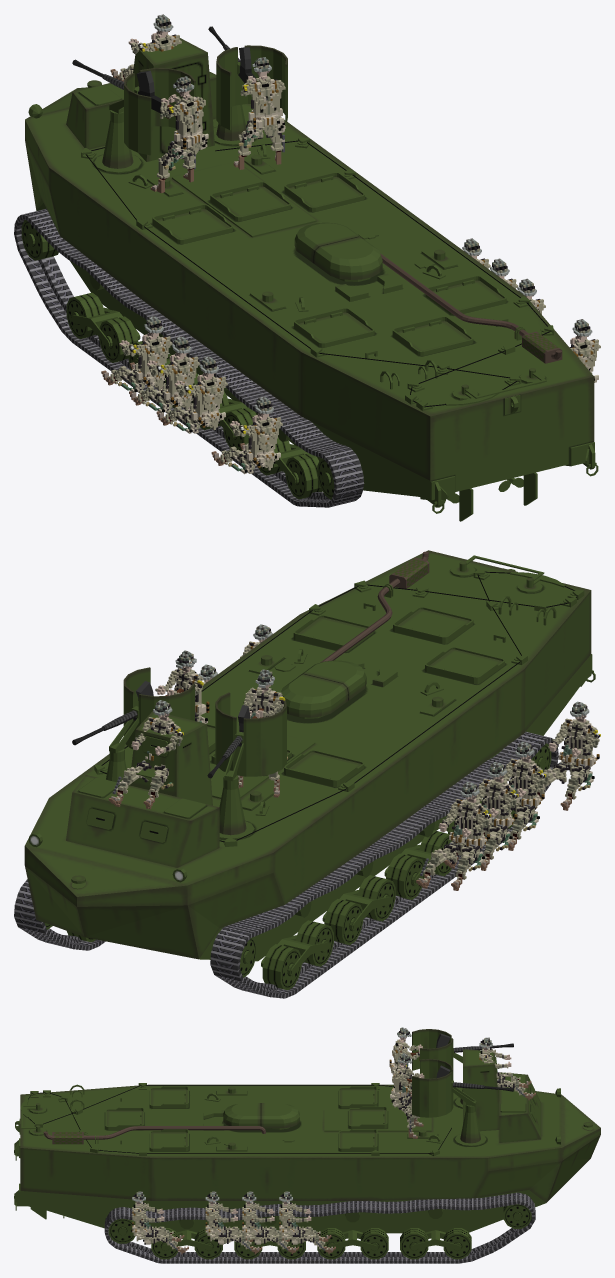
The model's file is katsu.glb.
The picture shows the model from 3 angles, top to bottom: view 1: azimuth 30°, elevation 25°; view 2: azimuth 150°, elevation 25°; view 3: azimuth 270°, elevation 25°; orthographic projection. The views are drawn at different scales.
Visible parts, largest first — view 1: 00_chassis_katsu_chassis.mesh, 07_track_katsu_track.mesh, 04_turret_katsu_mg.mesh, 05_turret_katsu_mg.mesh, crew_soldier_SLOT_01_GUNNER, crew_soldier_SLOT_02_GUNNER, crew_soldier_SLOT_09_PASSENGER, crew_soldier_SLOT_07_PASSENGER, crew_soldier_SLOT_03_PASSENGER, crew_soldier_SLOT_05_PASSENGER, crew_soldier_SLOT_00_DRIVER, crew_soldier_SLOT_10_PASSENGER; view 2: 00_chassis_katsu_chassis.mesh, 07_track_katsu_track.mesh, 04_turret_katsu_mg.mesh, crew_soldier_SLOT_03_PASSENGER, crew_soldier_SLOT_09_PASSENGER, 05_turret_katsu_mg.mesh, crew_soldier_SLOT_05_PASSENGER, crew_soldier_SLOT_00_DRIVER, crew_soldier_SLOT_07_PASSENGER, 06_track_katsu_track.mesh, crew_soldier_SLOT_01_GUNNER, crew_soldier_SLOT_02_GUNNER; view 3: 00_chassis_katsu_chassis.mesh, 06_track_katsu_track.mesh, 05_turret_katsu_mg.mesh, 04_turret_katsu_mg.mesh, crew_soldier_SLOT_10_PASSENGER, crew_soldier_SLOT_04_PASSENGER, crew_soldier_SLOT_08_PASSENGER, crew_soldier_SLOT_06_PASSENGER, crew_soldier_SLOT_02_GUNNER, crew_soldier_SLOT_00_DRIVER, crew_soldier_SLOT_01_GUNNER.
Part boxes in pixels (x1,y1,x2,y2): 00_chassis_katsu_chassis.mesh: (25,38,598,521); 07_track_katsu_track.mesh: (14,208,364,507); 04_turret_katsu_mg.mesh: (72,59,195,155); 05_turret_katsu_mg.mesh: (208,26,287,129); crew_soldier_SLOT_01_GUNNER: (150,76,208,193); crew_soldier_SLOT_02_GUNNER: (233,57,285,169); crew_soldier_SLOT_09_PASSENGER: (211,396,282,474); crew_soldier_SLOT_07_PASSENGER: (156,356,227,433); crew_soldier_SLOT_03_PASSENGER: (101,316,172,393); crew_soldier_SLOT_05_PASSENGER: (129,336,200,413); crew_soldier_SLOT_00_DRIVER: (110,14,181,81); crew_soldier_SLOT_10_PASSENGER: (569,319,600,382); 00_chassis_katsu_chassis.mesh: (24,550,595,974); 07_track_katsu_track.mesh: (210,731,558,998); 04_turret_katsu_mg.mesh: (207,692,286,781); crew_soldier_SLOT_03_PASSENGER: (416,782,491,890); crew_soldier_SLOT_09_PASSENGER: (536,701,600,810); 05_turret_katsu_mg.mesh: (72,667,194,753); crew_soldier_SLOT_05_PASSENGER: (443,762,518,870); crew_soldier_SLOT_00_DRIVER: (108,700,183,809); crew_soldier_SLOT_07_PASSENGER: (481,741,546,850); 06_track_katsu_track.mesh: (14,879,105,950); crew_soldier_SLOT_01_GUNNER: (238,669,287,797); crew_soldier_SLOT_02_GUNNER: (155,650,209,723); 00_chassis_katsu_chassis.mesh: (14,1049,600,1249); 06_track_katsu_track.mesh: (104,1192,535,1263); 05_turret_katsu_mg.mesh: (406,1059,513,1117); 04_turret_katsu_mg.mesh: (409,1029,513,1070); crew_soldier_SLOT_10_PASSENGER: (132,1191,188,1254); crew_soldier_SLOT_04_PASSENGER: (279,1191,335,1254); crew_soldier_SLOT_08_PASSENGER: (205,1191,262,1254); crew_soldier_SLOT_06_PASSENGER: (242,1191,298,1254); crew_soldier_SLOT_02_GUNNER: (390,1053,424,1138); crew_soldier_SLOT_00_DRIVER: (479,1037,535,1100); crew_soldier_SLOT_01_GUNNER: (389,1027,422,1096).
Bounding box in the file's own units: 5.69 × 4.25 × 11.97.
Materials: 39 (3 with a texture image).
